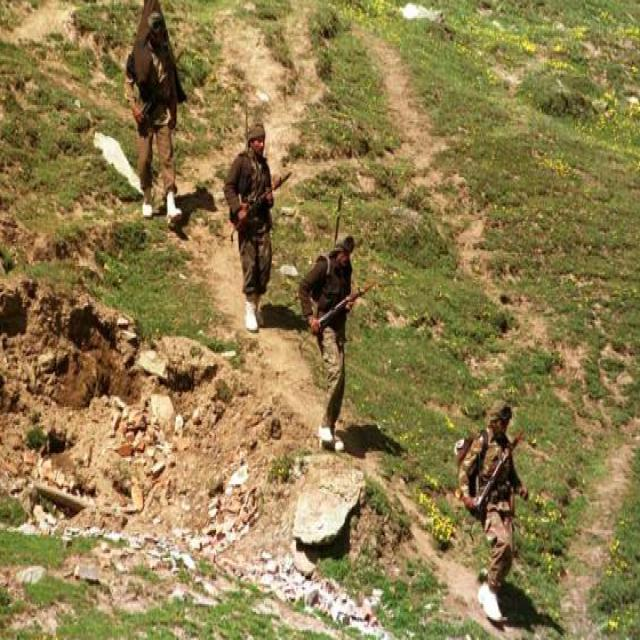soldier: (422, 404, 528, 621), (299, 236, 380, 451), (223, 121, 292, 331), (125, 0, 188, 222)
